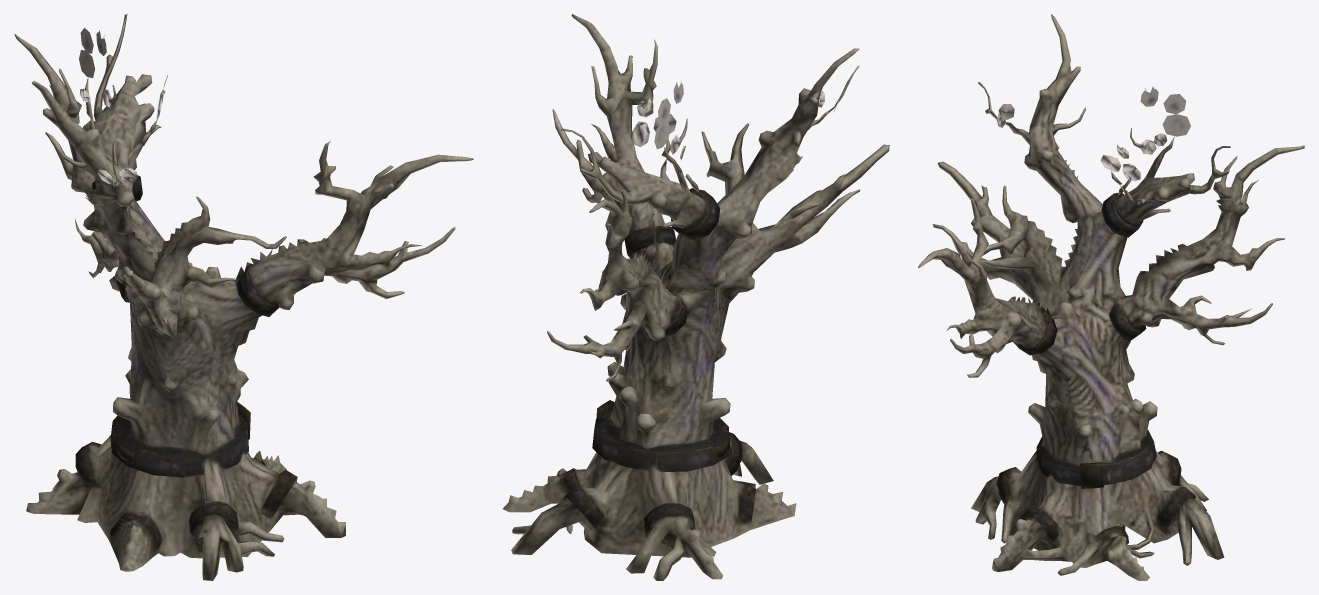
File: prop_node_bone_elder.glb
3 renders of one model, left to right at view 1: azimuth 30°, elevation 25°; view 2: azimuth 150°, elevation 25°; view 3: azimuth 270°, elevation 25°, orthographic. The views are drawn at different scales.
Visible parts, largest first — view 1: tripo_node_ea0dd70d-3621-4384-a565-8c1ad74680e3; view 2: tripo_node_ea0dd70d-3621-4384-a565-8c1ad74680e3; view 3: tripo_node_ea0dd70d-3621-4384-a565-8c1ad74680e3.
Part boxes in pixels (left/top/right/bottom): tripo_node_ea0dd70d-3621-4384-a565-8c1ad74680e3: left=14, top=14, right=473, bottom=580; tripo_node_ea0dd70d-3621-4384-a565-8c1ad74680e3: left=503, top=14, right=889, bottom=580; tripo_node_ea0dd70d-3621-4384-a565-8c1ad74680e3: left=918, top=14, right=1304, bottom=580.
Size of the model in its own units: 0.7597 by 0.998 by 0.791.
1 material, 1 textured.
